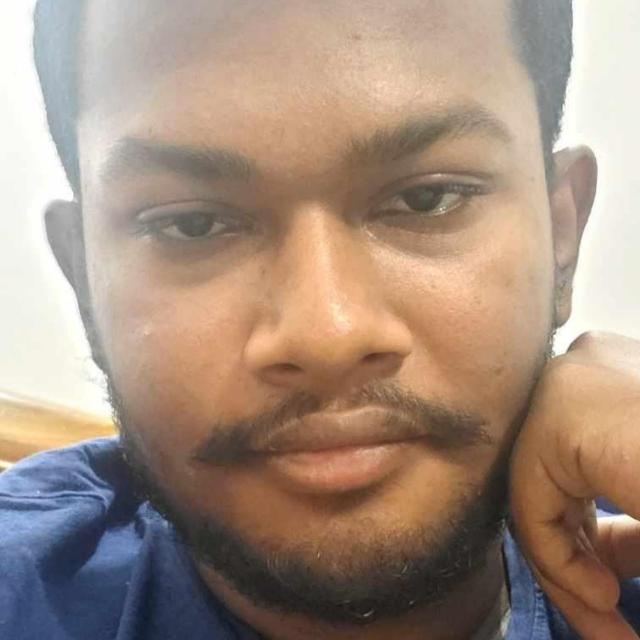Natural: (62, 47, 630, 595)
